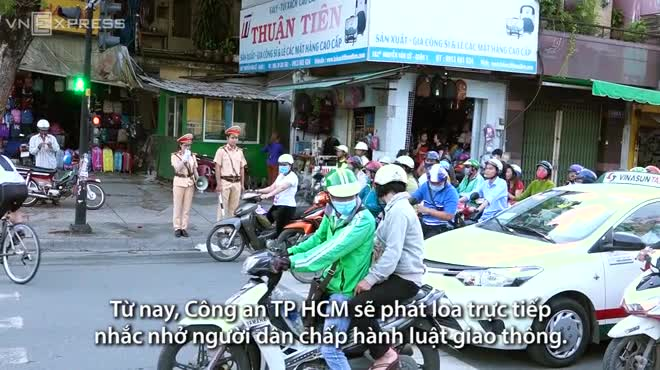police: (216, 125, 251, 228)
